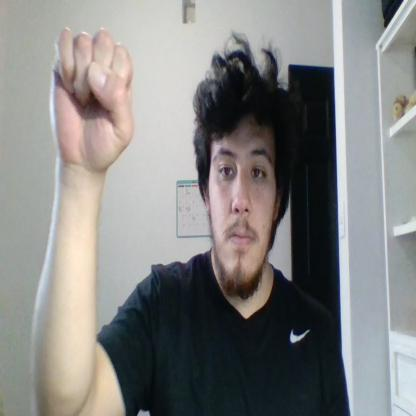S: (49, 25, 134, 173)
